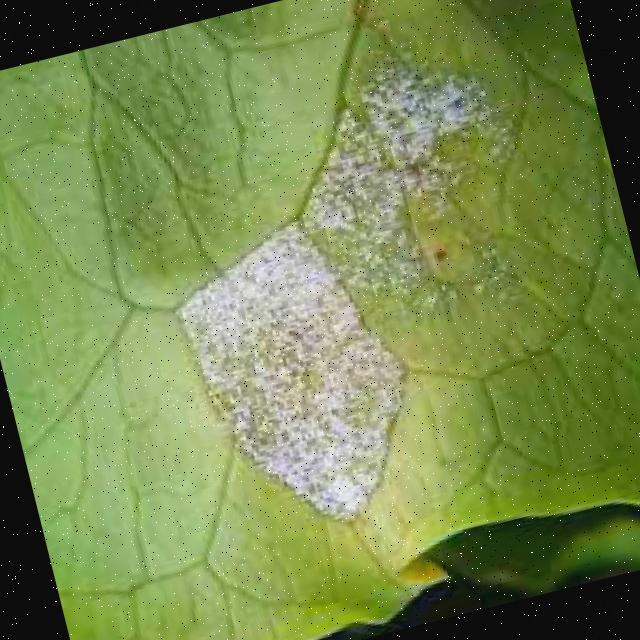Powdery_mildew_on_lettuce: (132, 56, 595, 562)
